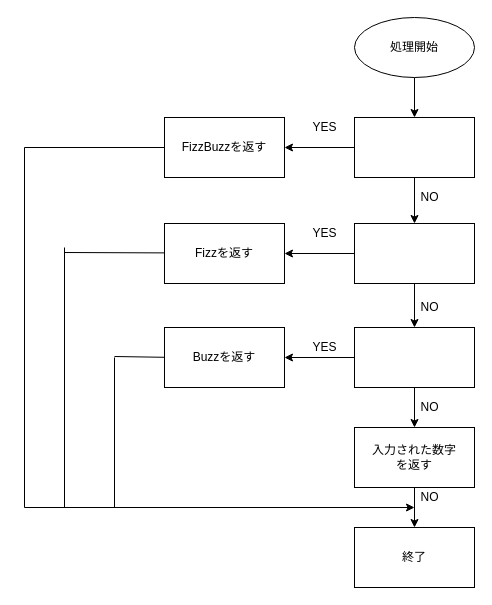
Some shapes in this 492 by 605 pixel diagram are drawn without their labels. The box of each missing label's shape, as (x1, y1, x2, y2) in pixels:
3の倍数: (354, 222, 474, 284)
3の倍数かつ 5の倍数: (354, 116, 474, 178)
5の倍数: (354, 326, 474, 388)
